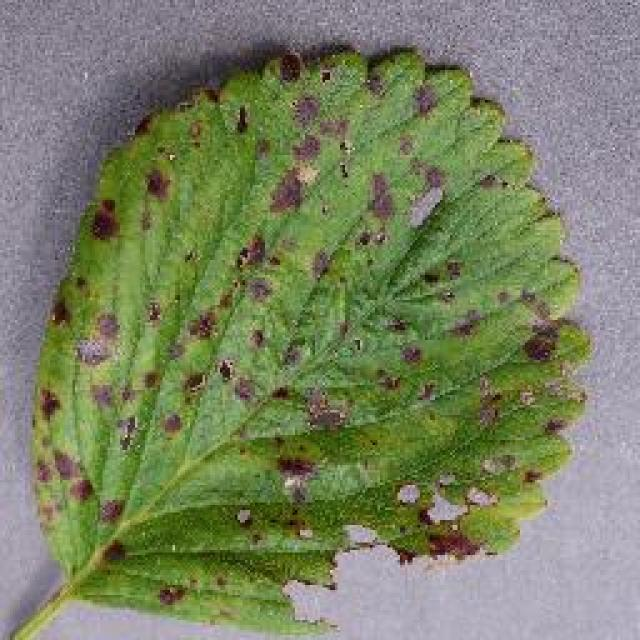Strawberry leaf scorch: (115, 128, 507, 517)
